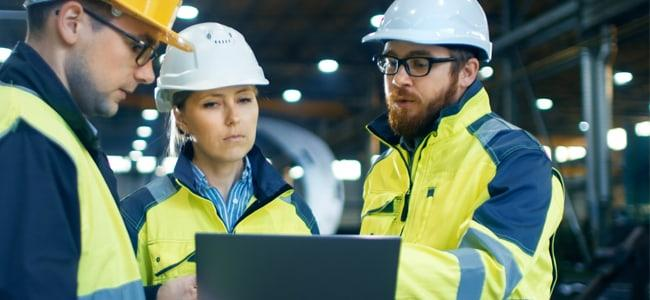helmet: (155, 23, 269, 94), (363, 1, 495, 59), (71, 1, 187, 66)
